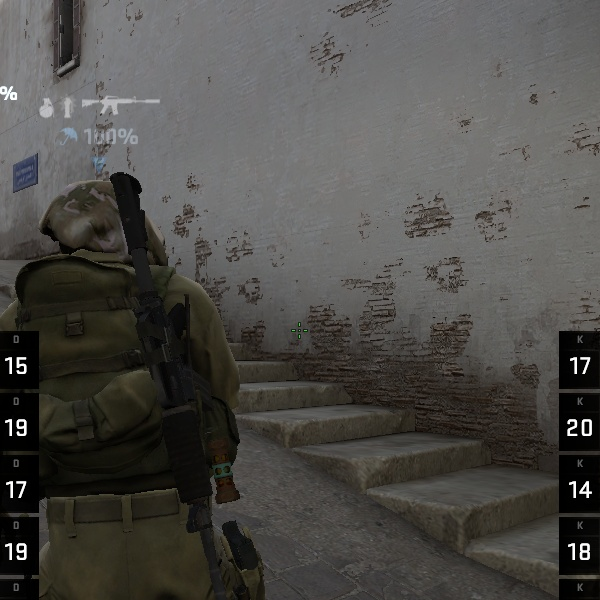ct_body: (0, 161, 281, 600)
ct_head: (27, 169, 166, 295)
